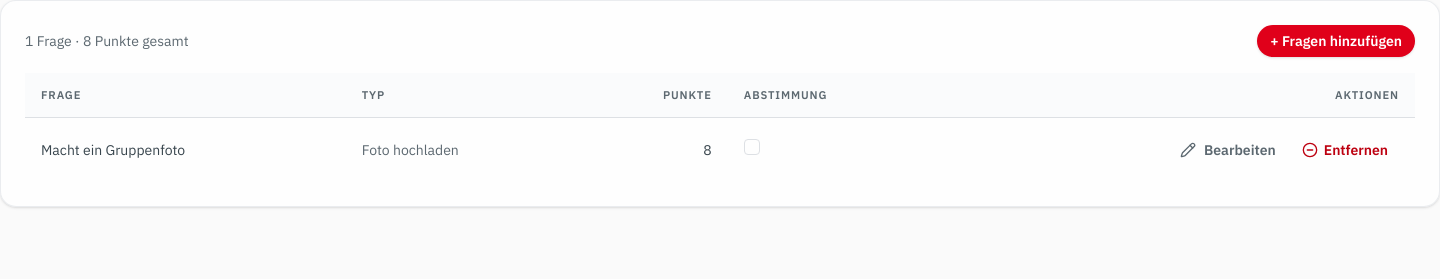
RallyeQuestionsManager › toggles voting via the action
Click the checkbox named "Abstimmung". click: (752, 147)
box: [744,139,760,155]
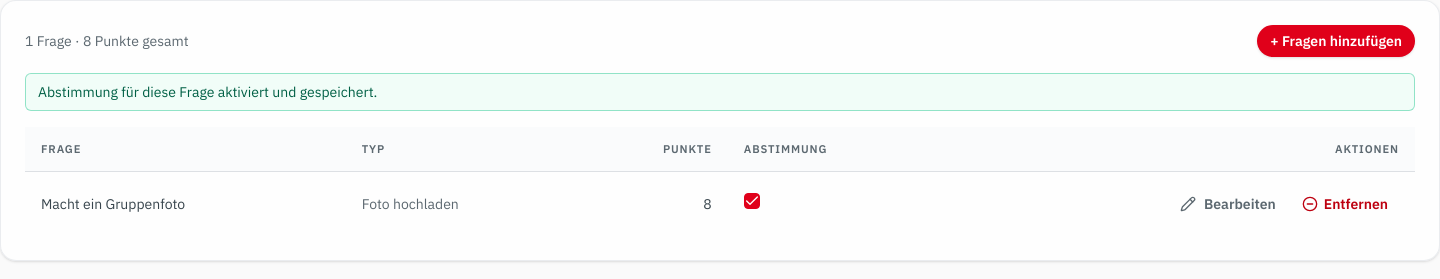
Expected: the message reads "Abstimmung für diese Frage aktiviert und gespeichert.", [38,83,377,101]
